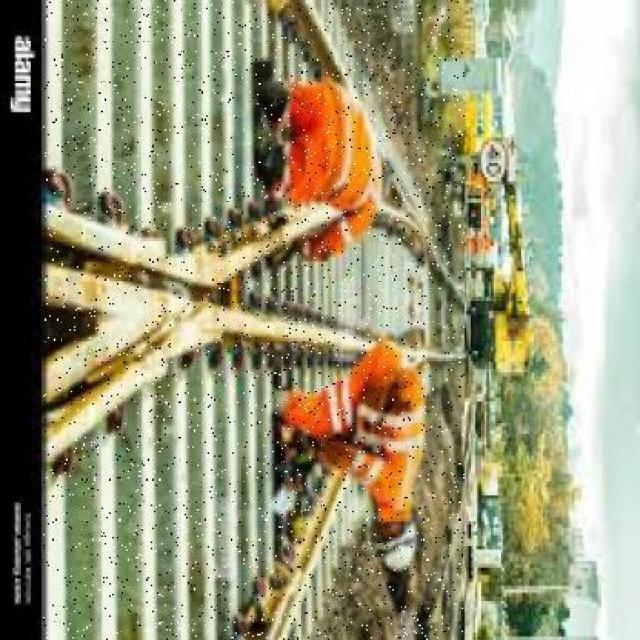danger: (269, 335, 426, 600), (240, 74, 385, 268)
rail: (42, 0, 462, 640)
